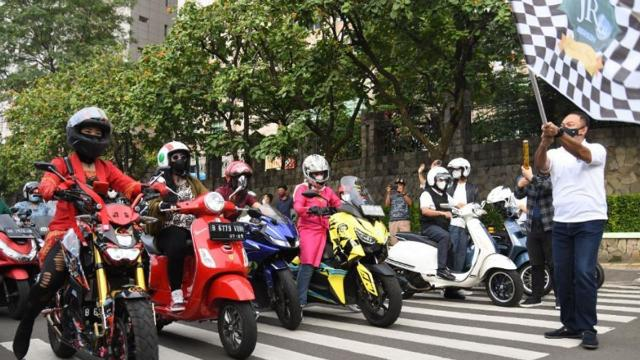helm: (66, 108, 112, 159), (158, 142, 194, 176), (303, 156, 332, 189), (226, 161, 255, 189), (488, 185, 515, 211), (427, 167, 451, 191), (450, 159, 473, 181)
motor: (32, 181, 168, 360), (144, 190, 258, 360), (293, 192, 405, 331), (384, 202, 525, 309), (234, 203, 305, 333), (485, 200, 556, 301)
